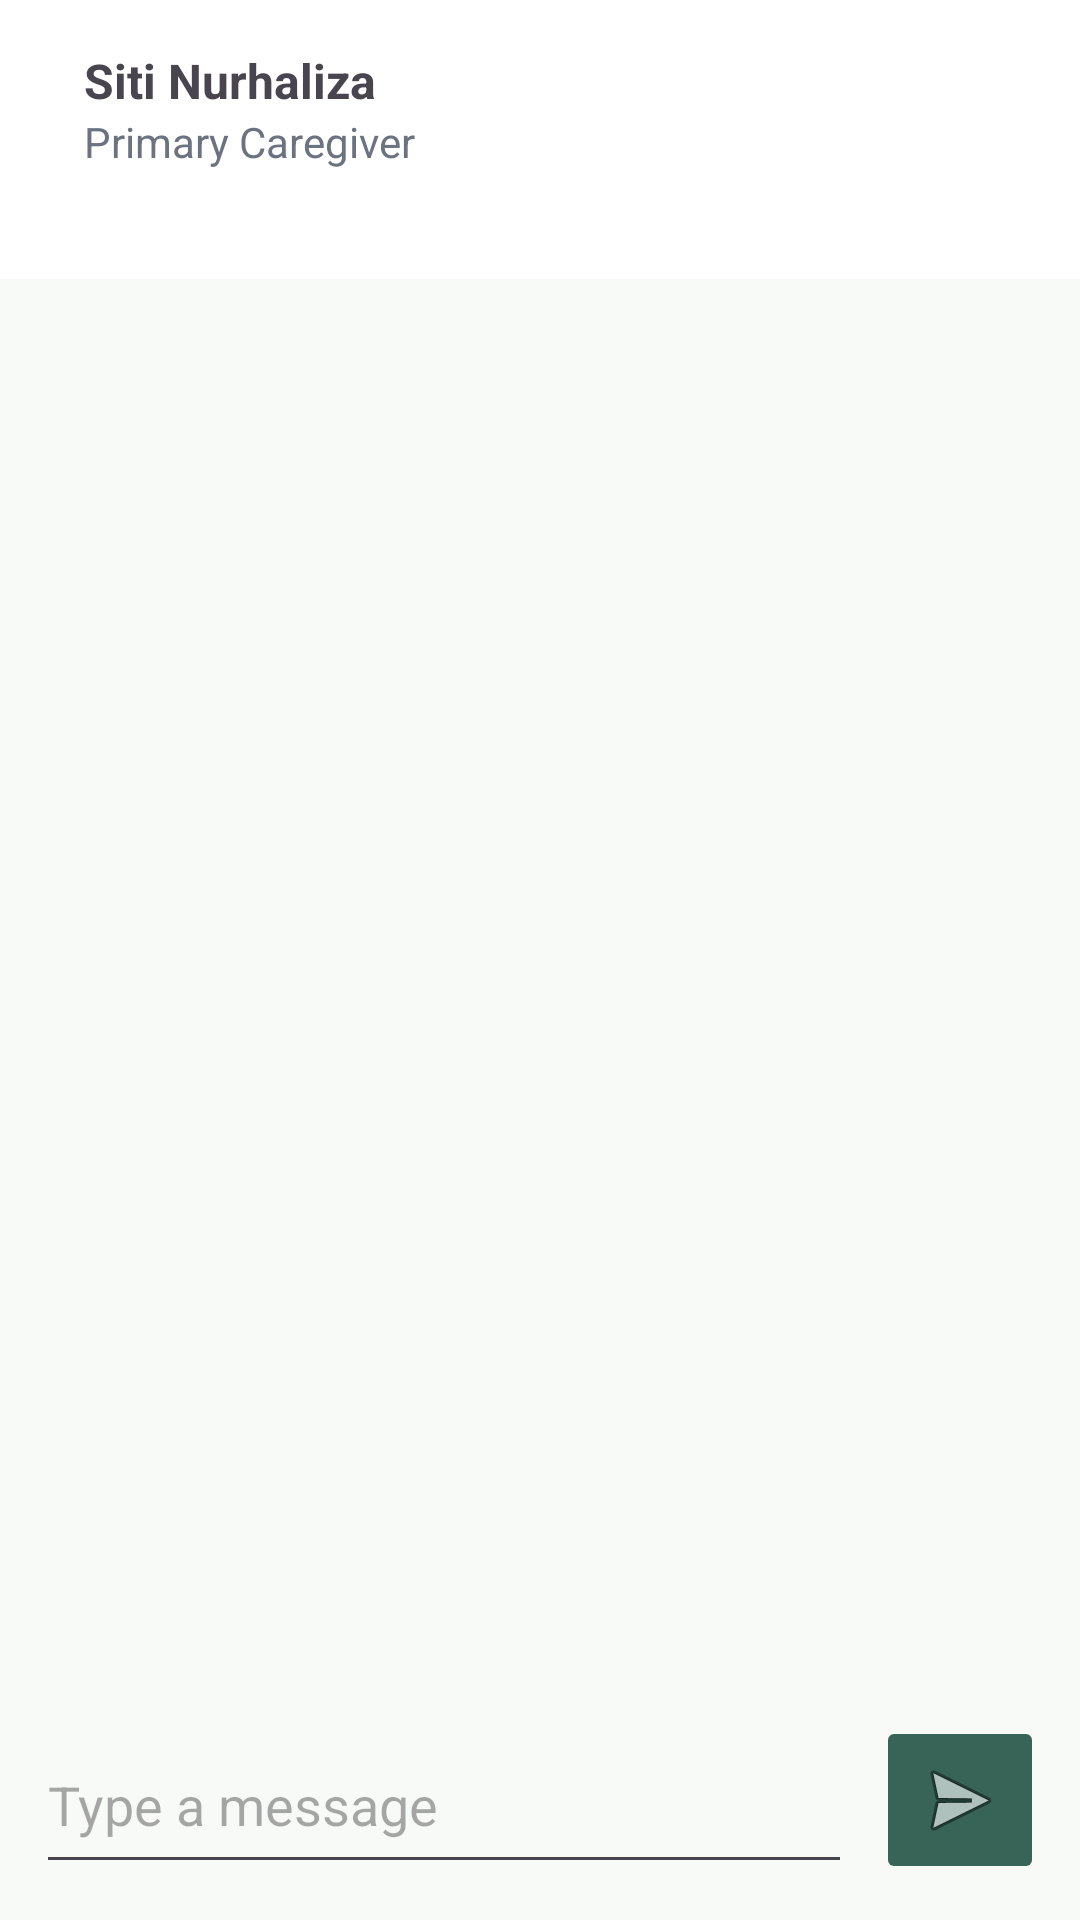

Locate icon controls on the screen. Image size 1080×1920, boxes as (x1,y1,x2,y2).
Kirim pesan: (888,1734,1032,1866)
